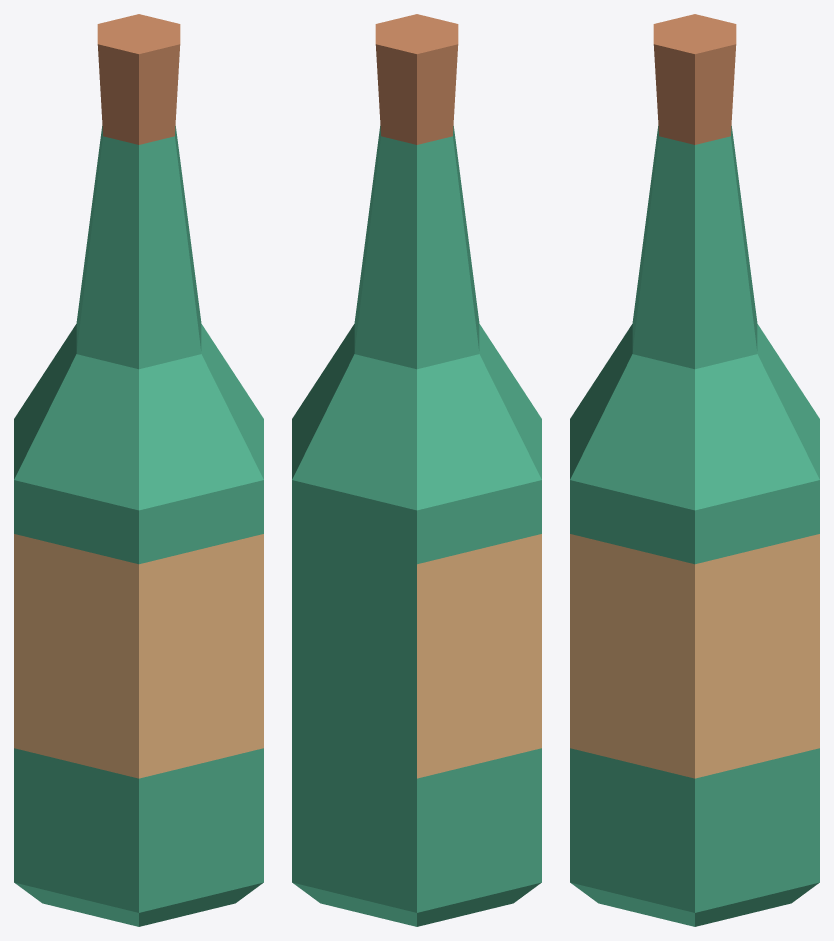
File: wineWhite.fbx
3 views of the same model, side by side, from view 1: azimuth 30°, elevation 25°; view 2: azimuth 150°, elevation 25°; view 3: azimuth 270°, elevation 25° (orthographic).
Parts seen in each view (by area): view 1: wineWhite; view 2: wineWhite; view 3: wineWhite.
Boxes of the visible parts, x1,y1,x2,y2 form: wineWhite: (14, 14, 263, 926); wineWhite: (292, 14, 541, 926); wineWhite: (570, 14, 819, 926).
Bounding box in the file's own units: 2.03 × 6.56 × 1.76.
